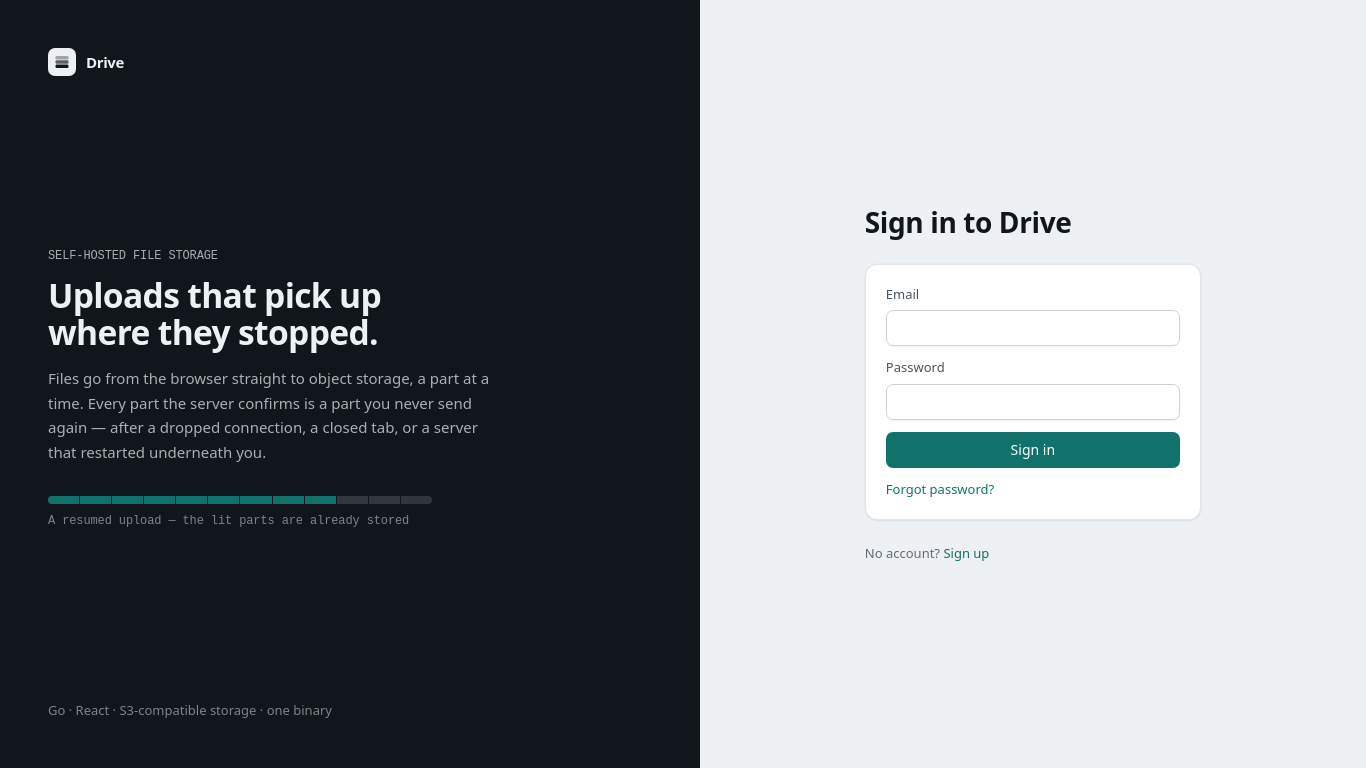
Test: /login › reports a refused sign-in without touching the session
Type "someone@example.test" into the field labelled "Email" at (1033, 328), box [886, 310, 1180, 346]
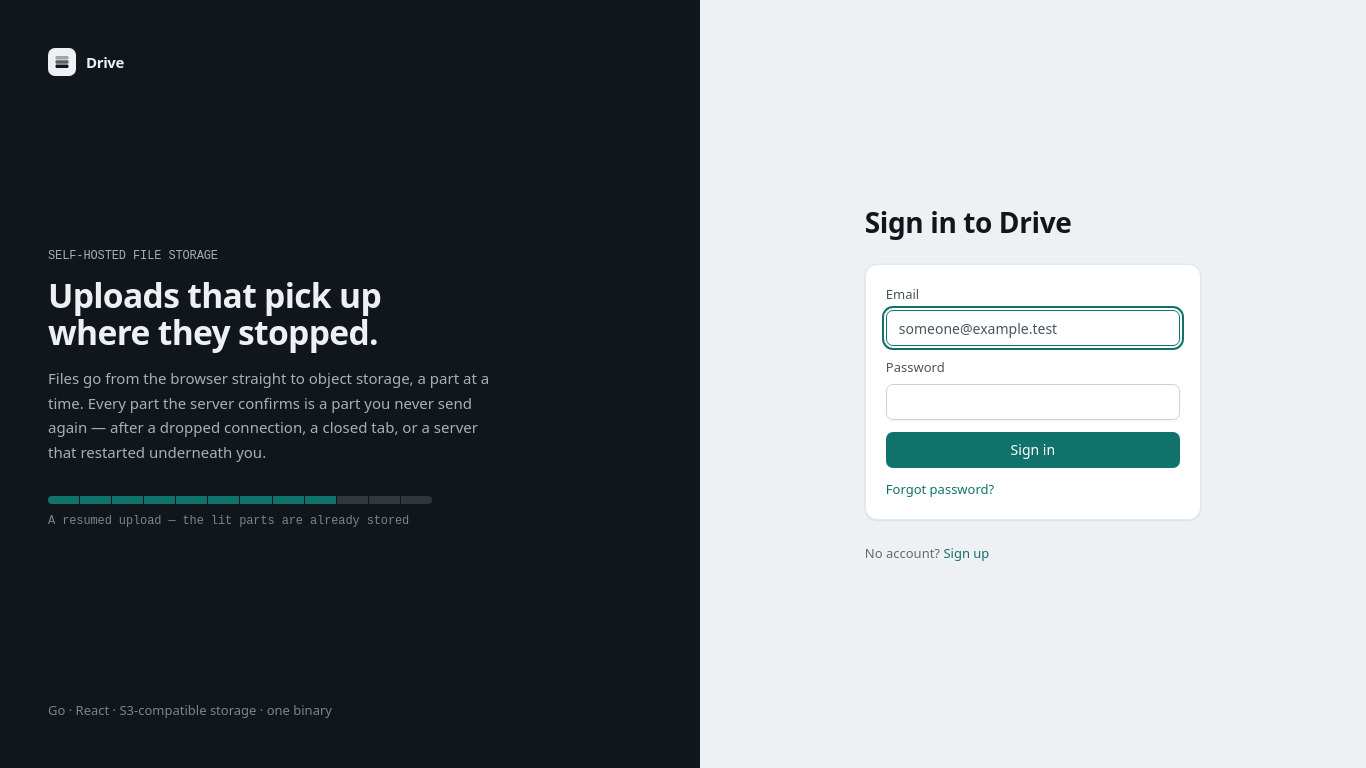
Type "wrong" into the password field labelled "Password" at (1033, 402), box [886, 384, 1180, 420]
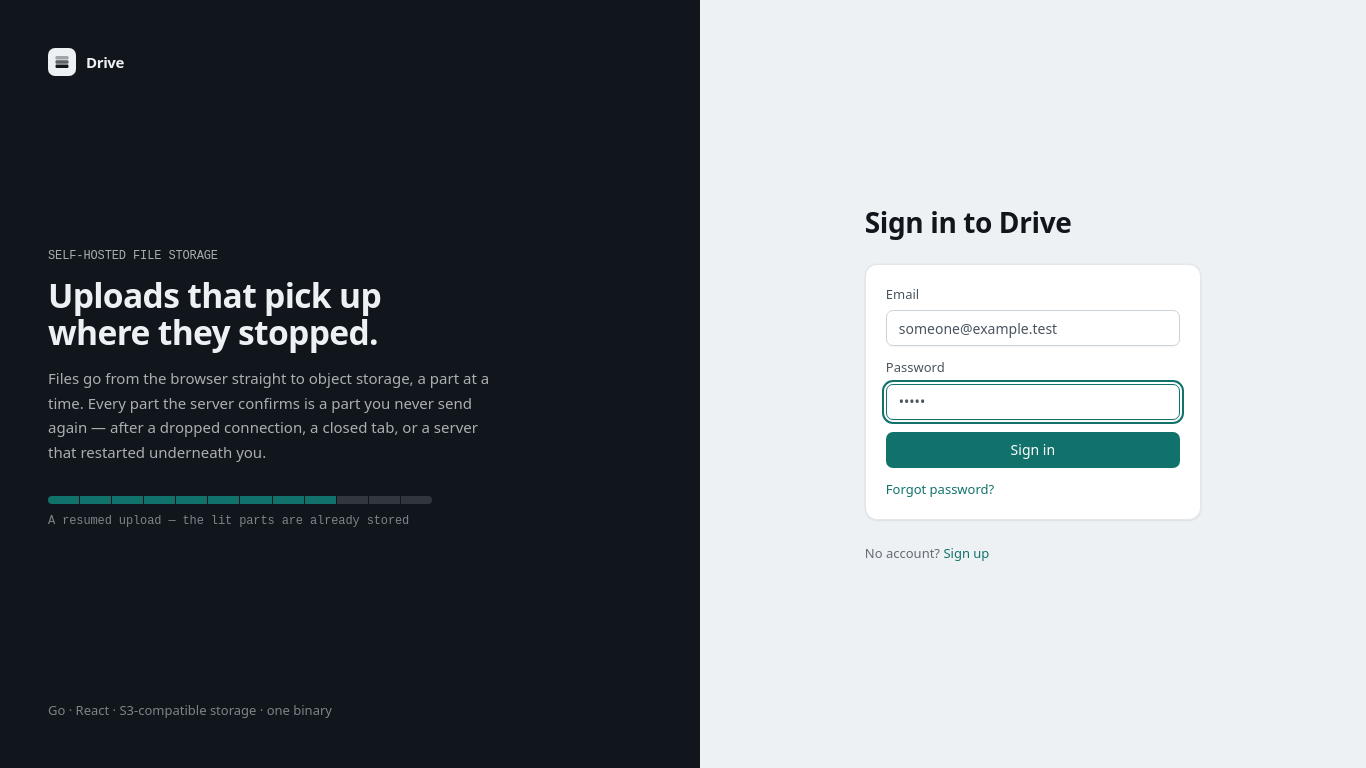
Click the button "Sign in" at (1033, 450), box [886, 432, 1180, 468]
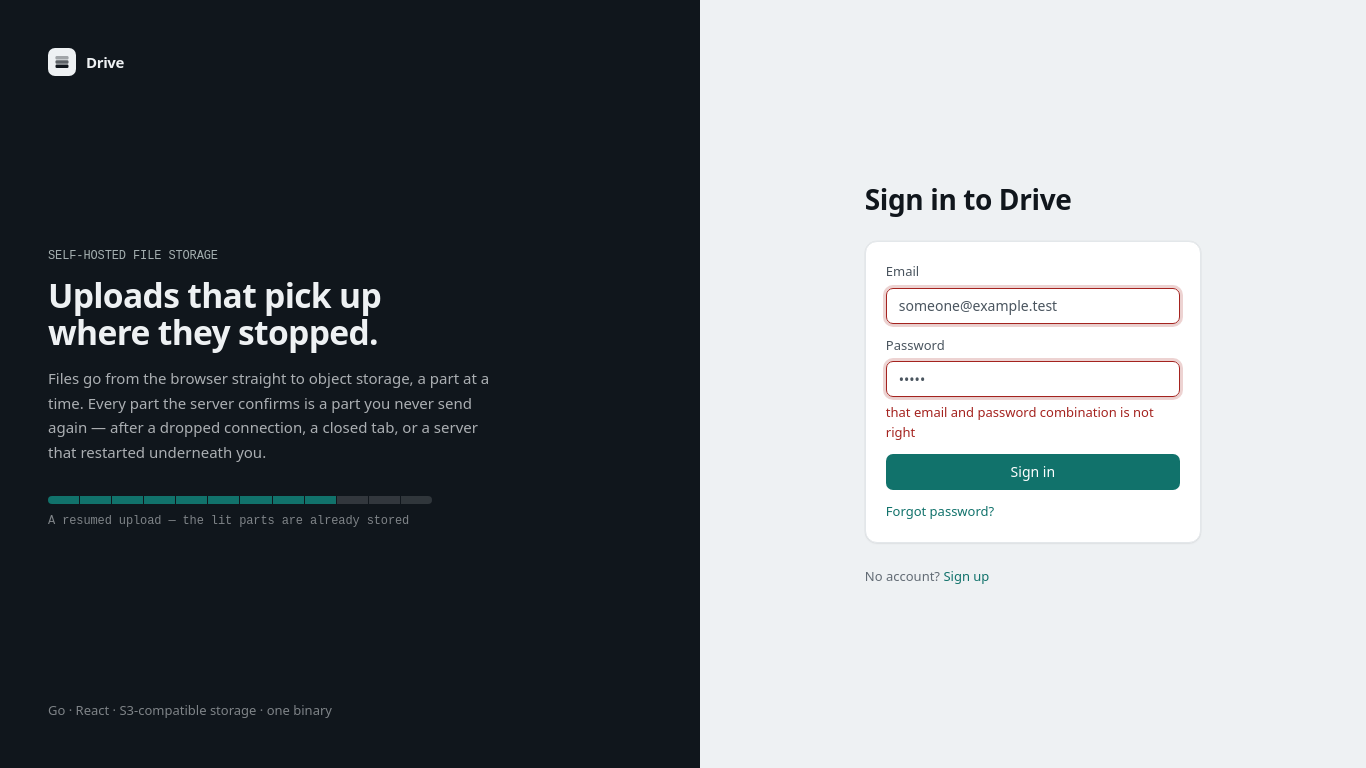
Result: the message reads "that email and password combination is not right" at [886, 403, 1154, 440]
